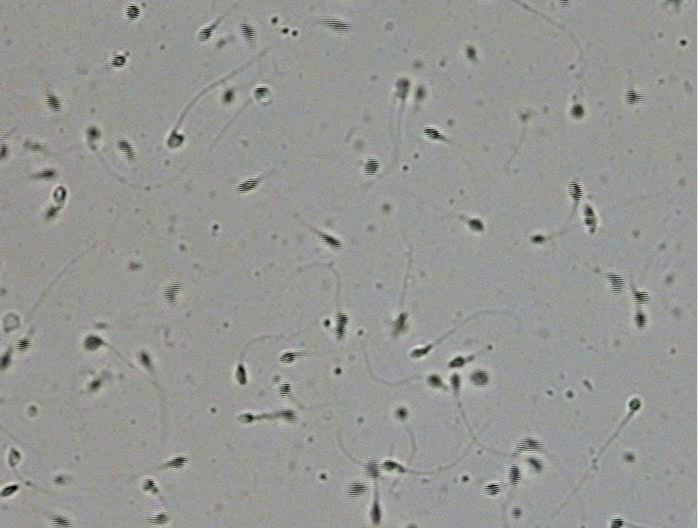S: (333, 312, 349, 340), (583, 203, 597, 234), (607, 271, 624, 294), (391, 312, 407, 336), (163, 282, 182, 302), (319, 233, 342, 249), (117, 139, 134, 159), (347, 481, 367, 498), (326, 18, 350, 32), (44, 93, 61, 112), (240, 22, 256, 42), (395, 78, 410, 99), (410, 344, 432, 358), (369, 501, 381, 526), (568, 181, 583, 201), (237, 178, 258, 192), (363, 158, 380, 175), (625, 89, 642, 106), (364, 460, 380, 478), (518, 438, 542, 450), (470, 370, 489, 385), (632, 289, 651, 304), (509, 464, 521, 486), (125, 4, 141, 20), (16, 336, 32, 352), (167, 133, 184, 148), (235, 364, 247, 385), (53, 186, 67, 204), (169, 456, 188, 469), (142, 479, 158, 494), (527, 456, 542, 472), (468, 218, 485, 232), (52, 515, 70, 528), (423, 127, 441, 140), (570, 104, 585, 119), (633, 312, 647, 328), (84, 335, 101, 348), (1, 484, 18, 497), (483, 484, 501, 496), (198, 27, 213, 41), (110, 54, 126, 67), (85, 126, 101, 139), (279, 352, 296, 364), (153, 513, 170, 525), (448, 356, 466, 367), (139, 352, 151, 368), (279, 381, 291, 397), (279, 409, 295, 421), (37, 169, 56, 179), (450, 374, 461, 391), (45, 207, 60, 219), (8, 448, 20, 463), (414, 86, 426, 101), (238, 413, 255, 423), (222, 89, 234, 103), (427, 375, 441, 387), (254, 87, 269, 98), (1, 354, 11, 370), (395, 408, 407, 421), (629, 398, 641, 411), (381, 460, 395, 471), (89, 379, 101, 391), (465, 46, 476, 59), (1, 142, 9, 159), (530, 234, 545, 243), (611, 518, 624, 528), (559, 1, 569, 8), (407, 525, 416, 528)
